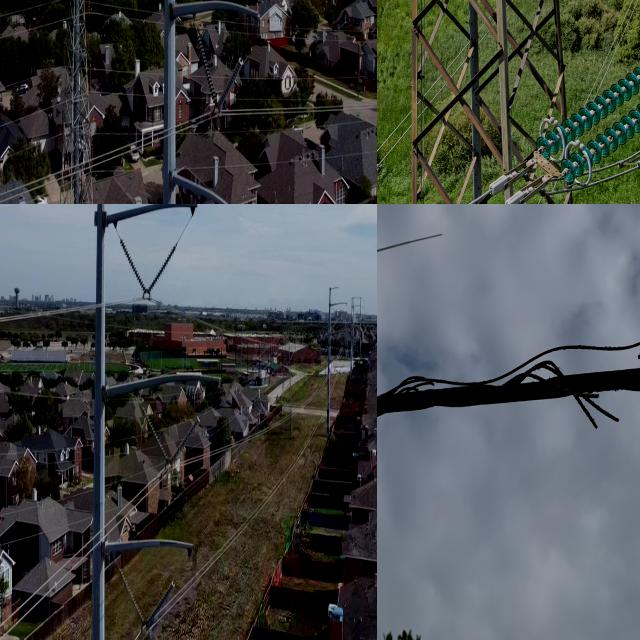杆塔: (394, 0, 591, 204), (48, 0, 102, 204)
正常绝缘子: (525, 50, 640, 188), (134, 231, 188, 314), (193, 34, 247, 114), (112, 225, 156, 309), (111, 559, 155, 640), (131, 571, 182, 640), (162, 407, 205, 478), (136, 399, 176, 472)
电缆破损: (377, 330, 640, 443)
